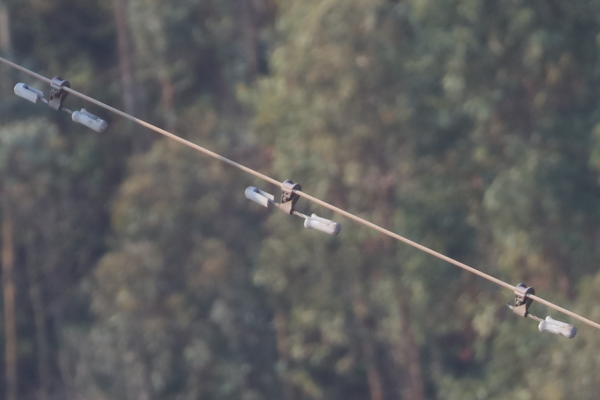damper: (10, 70, 108, 135), (239, 176, 343, 237)
damper_defect: (501, 278, 580, 340)
